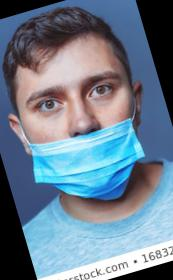mask_weared_incorrect: (15, 58, 157, 204)
